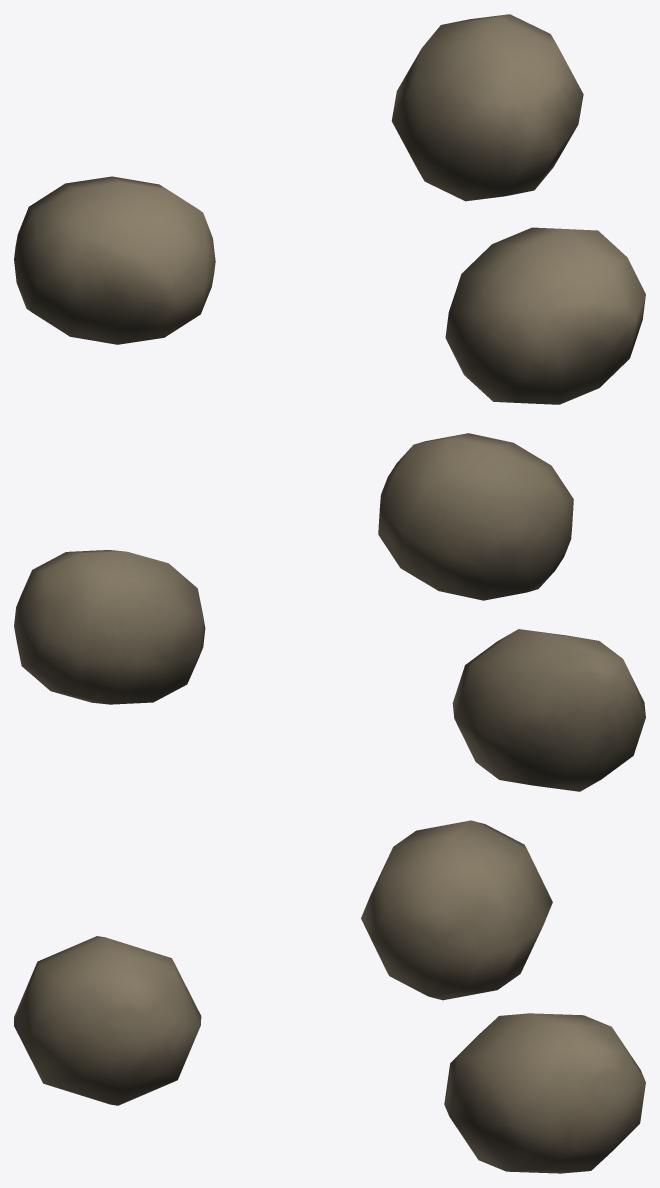
Rendered from Crop_Spinach_Stage_01.fbx.
The picture shows the model from 3 angles, top to bottom: view 1: azimuth 30°, elevation 25°; view 2: azimuth 150°, elevation 25°; view 3: azimuth 270°, elevation 25°; orthographic projection. The views are drawn at different scales.
Visible parts, largest first — view 1: Spinach_Stage_01; view 2: Spinach_Stage_01; view 3: Spinach_Stage_01.
Boxes of the visible parts, bbox=[...] form: Spinach_Stage_01: bbox=[14, 14, 645, 404]; Spinach_Stage_01: bbox=[14, 433, 645, 791]; Spinach_Stage_01: bbox=[14, 820, 645, 1173].
Size of the model in its own units: 27.13 by 7.64 by 25.31.
